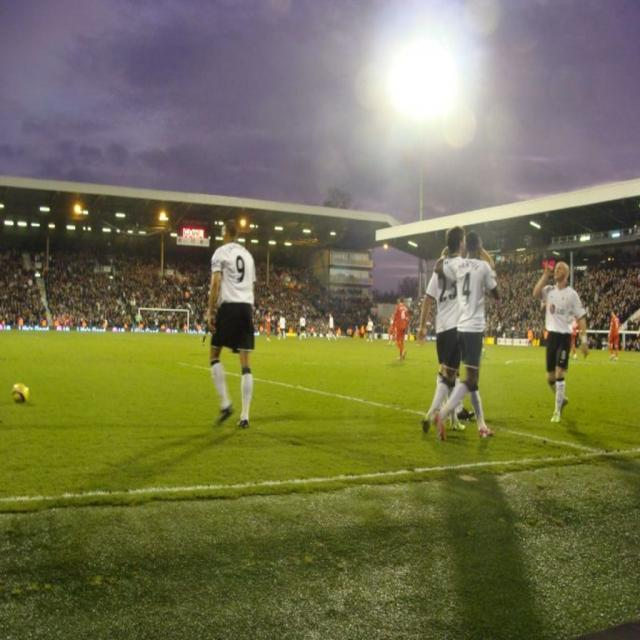football: (9, 375, 35, 409)
